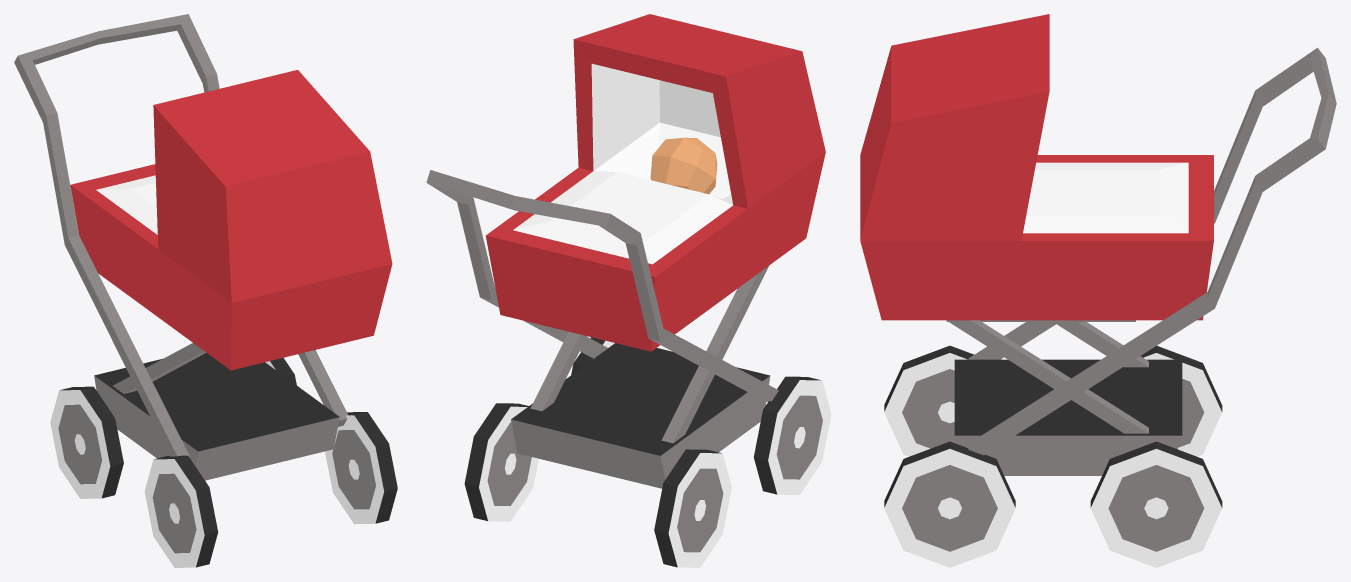
The model's file is baby-carriage.glb.
The picture shows the model from 3 angles, left to right: view 1: azimuth 30°, elevation 25°; view 2: azimuth 150°, elevation 25°; view 3: azimuth 270°, elevation 25°; orthographic projection. The views are drawn at different scales.
Parts seen in each view (by area): view 1: baby-carriage; view 2: baby-carriage; view 3: baby-carriage.
Boxes of the visible parts, <box> form: baby-carriage: <box>14,14,397,567</box>; baby-carriage: <box>426,14,831,567</box>; baby-carriage: <box>860,14,1336,567</box>.
Size of the model in its own units: 0.5774 by 1.21 by 1.13.
Materials: 1 (1 with a texture image).
